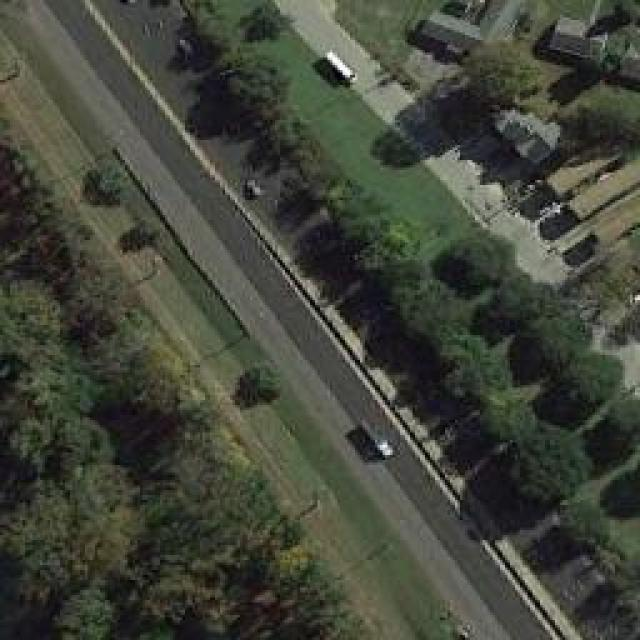Highway: (0, 0, 640, 638)
